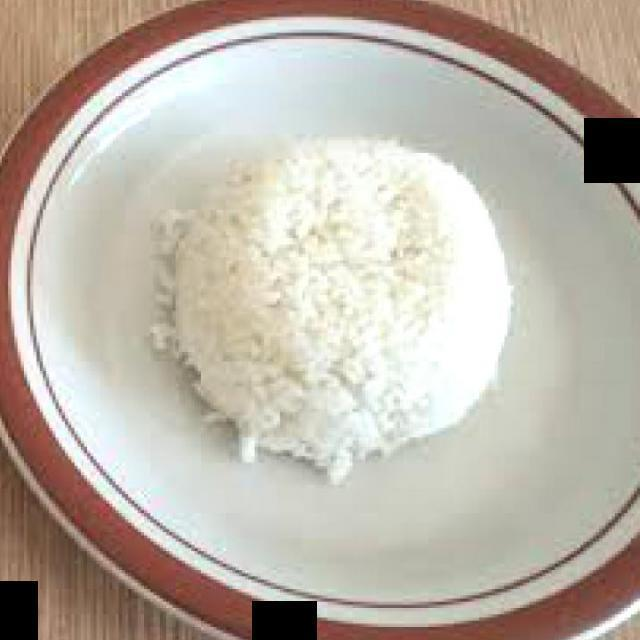Rice: (176, 133, 513, 481)
